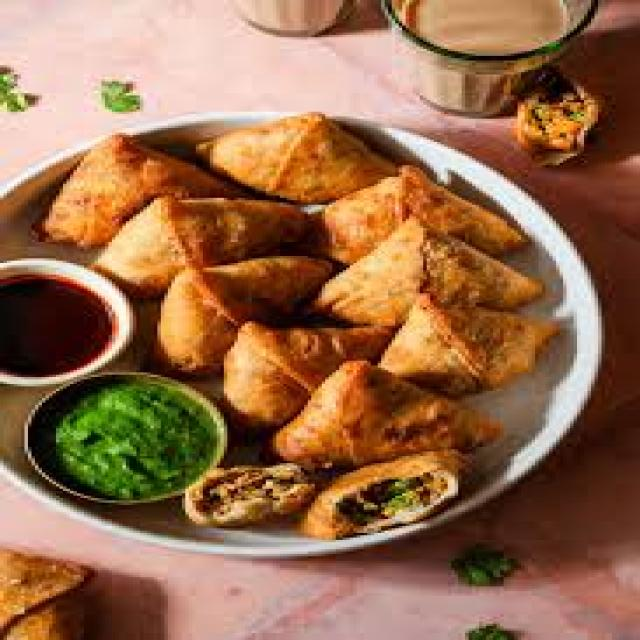SAMOSA: (322, 219, 539, 323), (276, 361, 497, 463), (45, 135, 234, 244), (94, 198, 304, 291), (161, 256, 329, 370), (322, 165, 518, 261), (378, 293, 556, 391), (196, 114, 392, 202), (224, 321, 381, 424), (301, 451, 458, 538), (185, 463, 311, 526)
